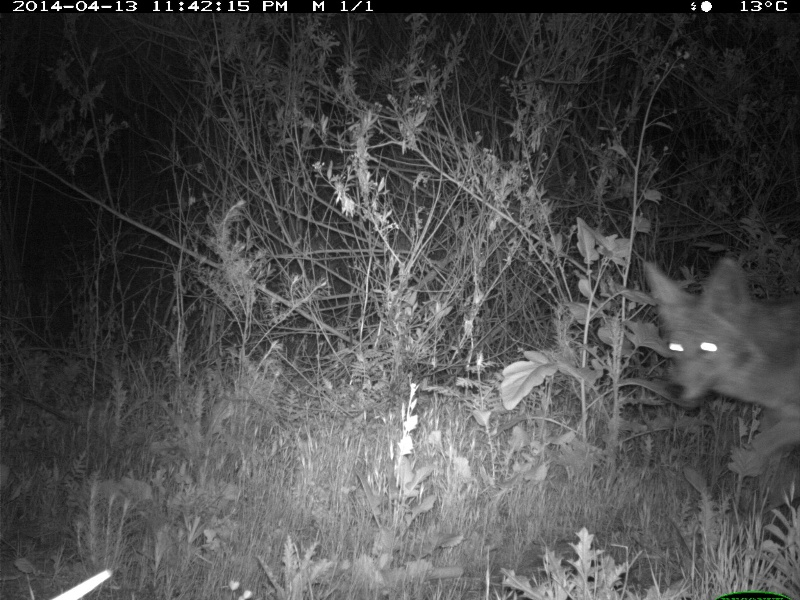fox: (640, 255, 800, 465)
